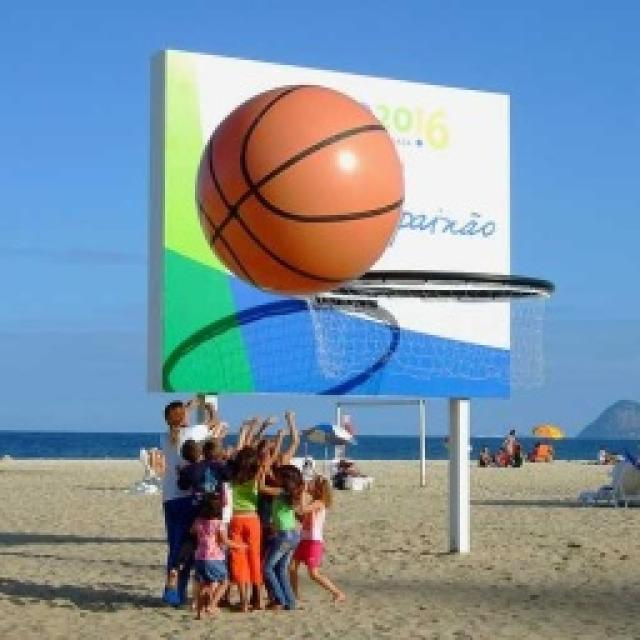rim: (206, 84, 384, 293)
